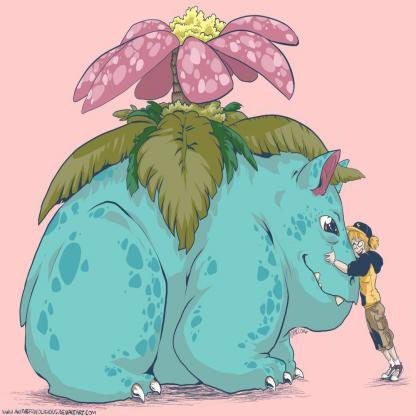Venusaur: (23, 5, 363, 416)
